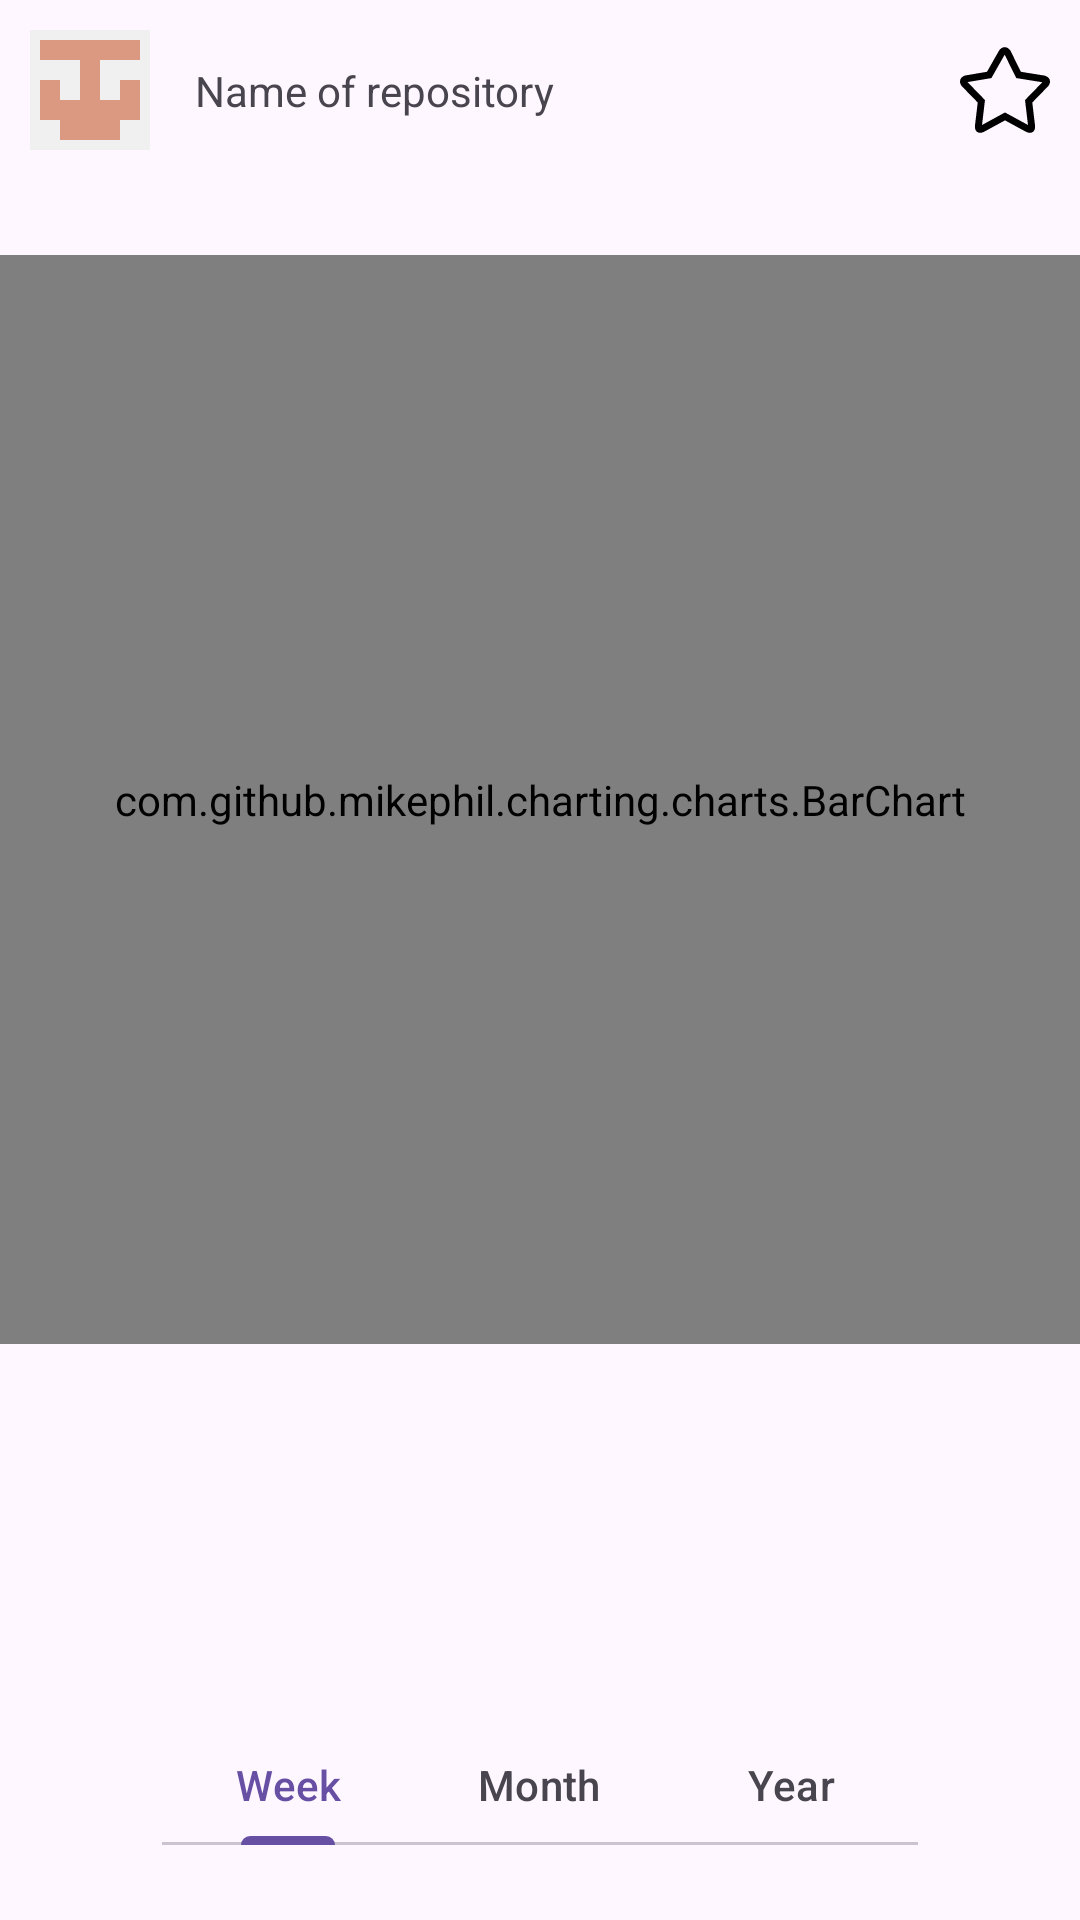

Icon click points for this 1080w x 1920h phone screenshot, format point (x, y):
owner: point (90, 90)
